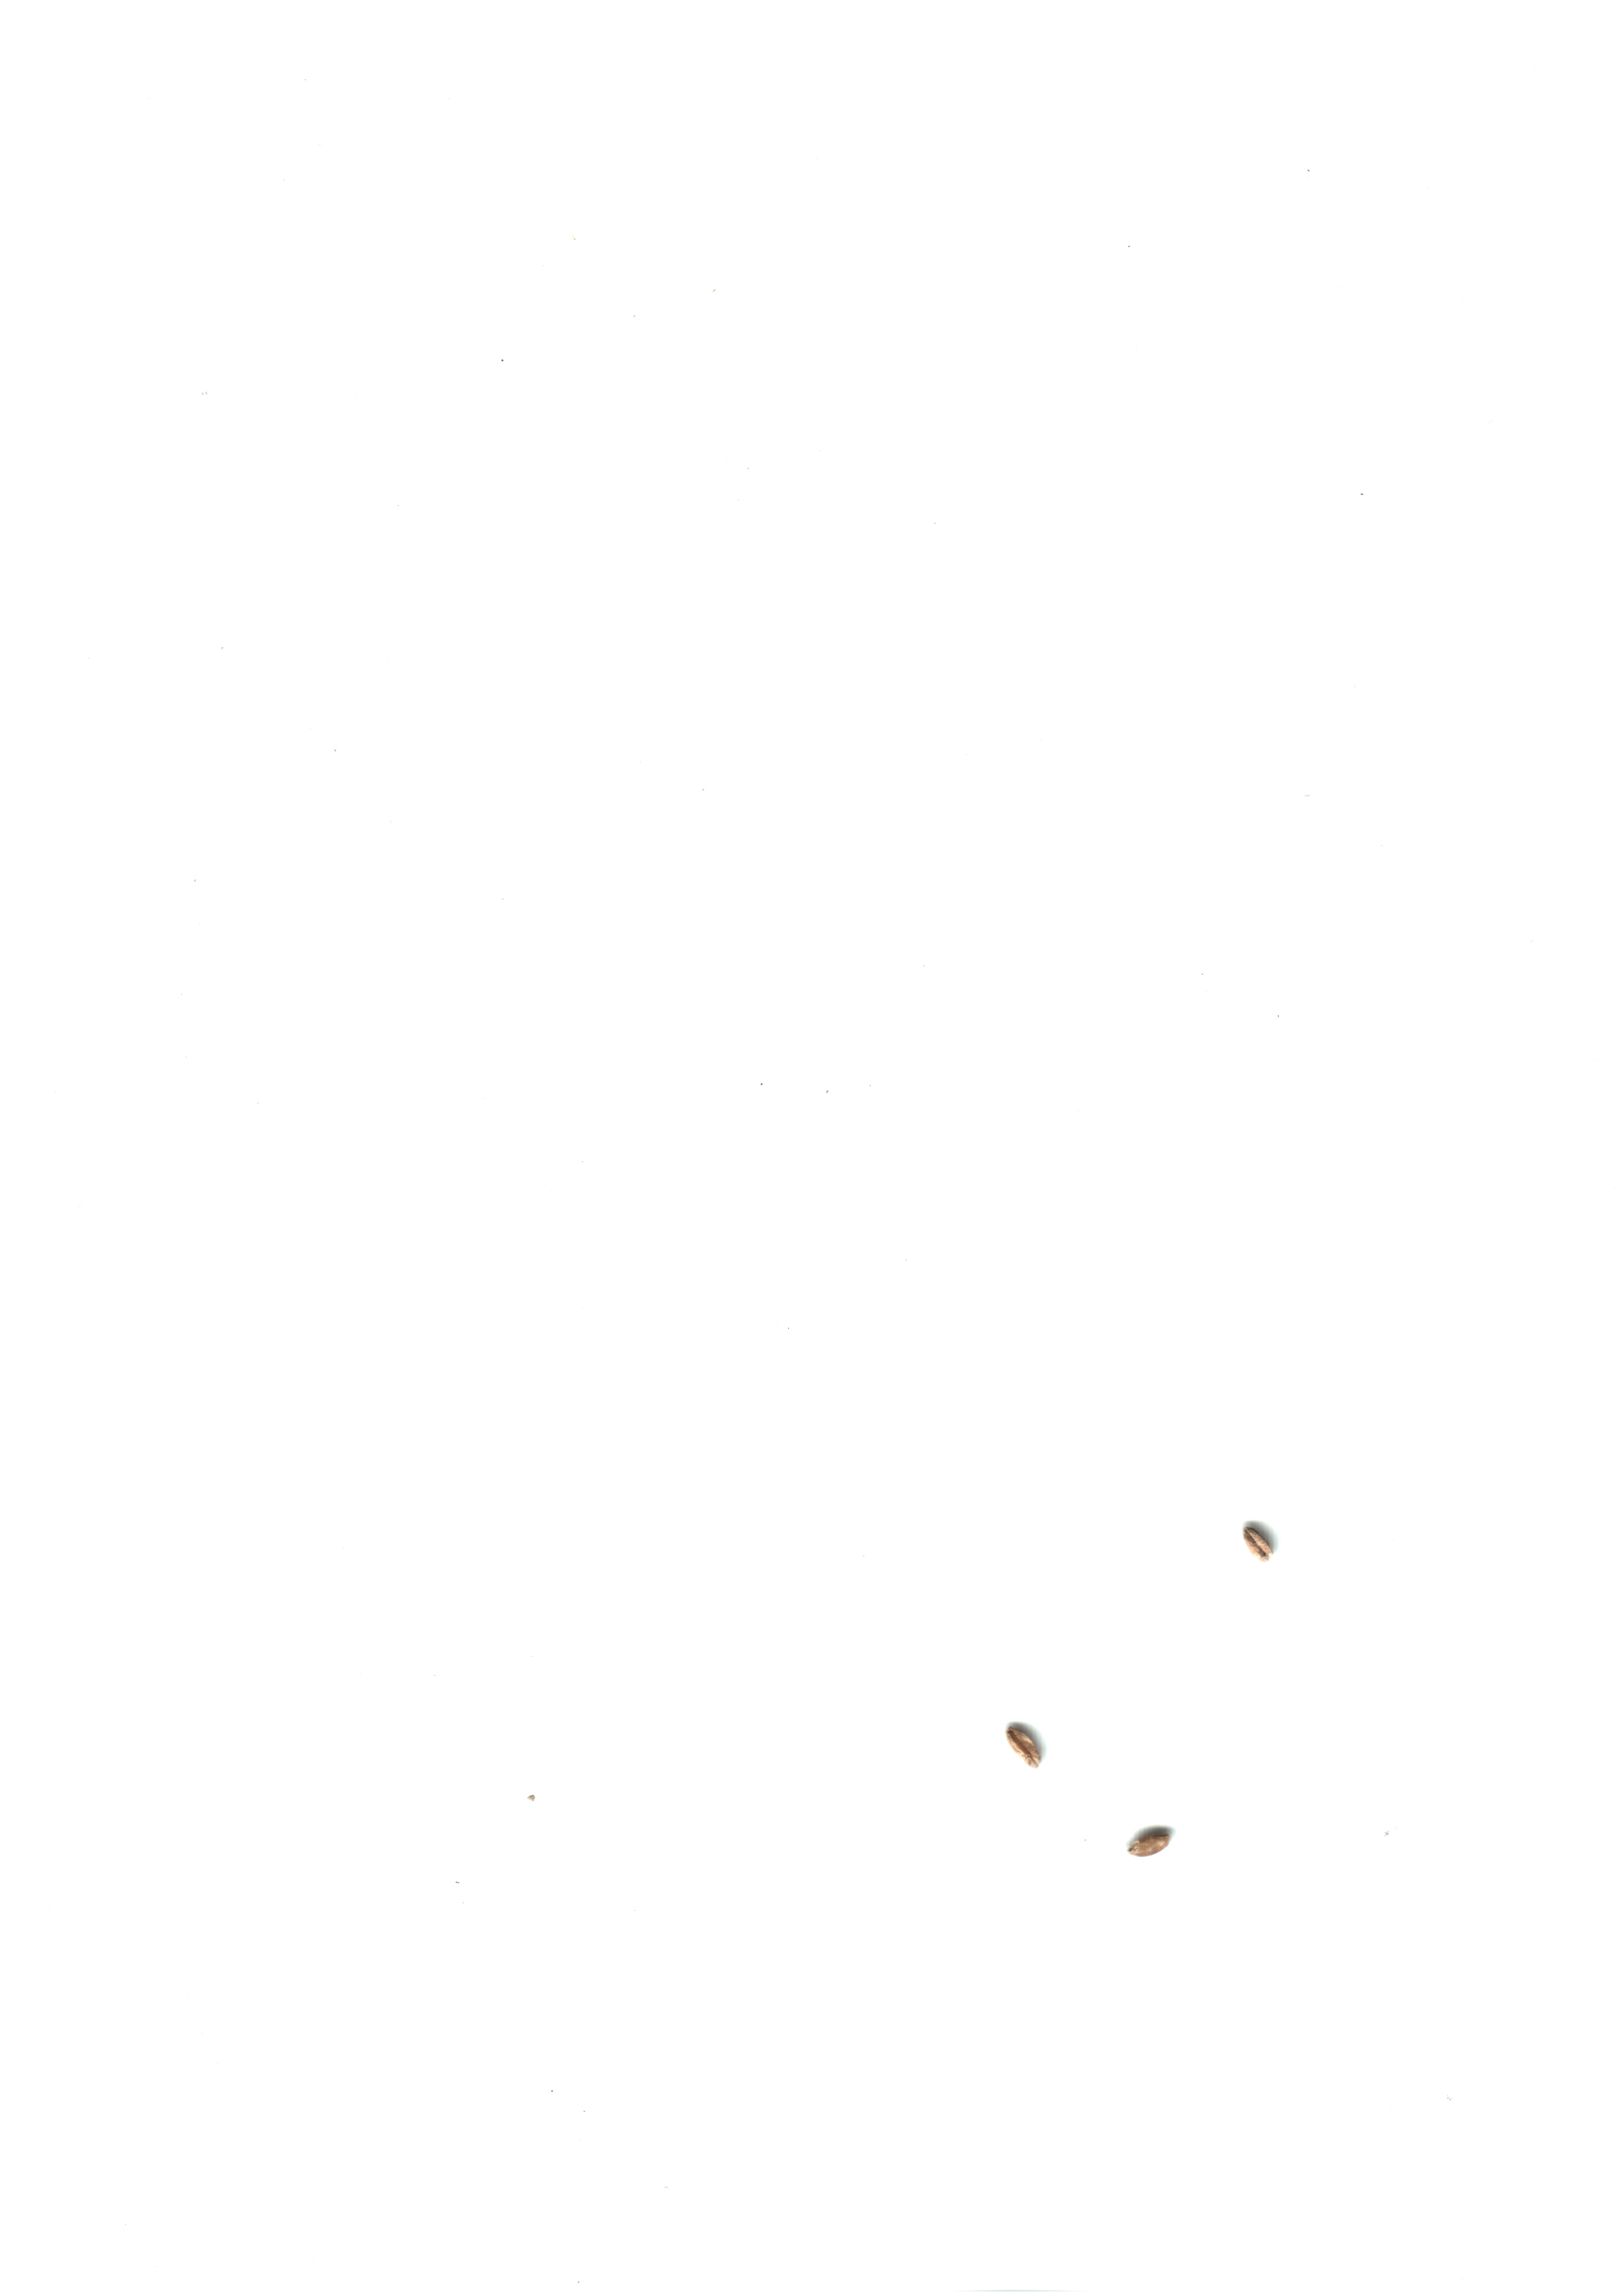grains_2_5mm: (1113, 1789, 1195, 1877), (988, 1697, 1071, 1784), (1218, 1493, 1300, 1581)
